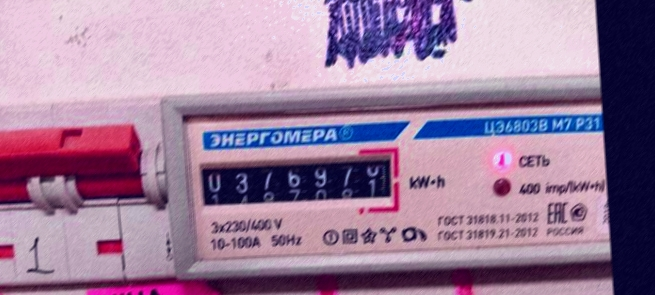0: (207, 170, 222, 193)
1: (366, 178, 379, 198)
3: (234, 172, 251, 194)
6: (286, 164, 302, 188)
7: (259, 167, 275, 191), (340, 164, 355, 188)
9: (312, 165, 328, 189)
screen: (190, 142, 405, 228)
